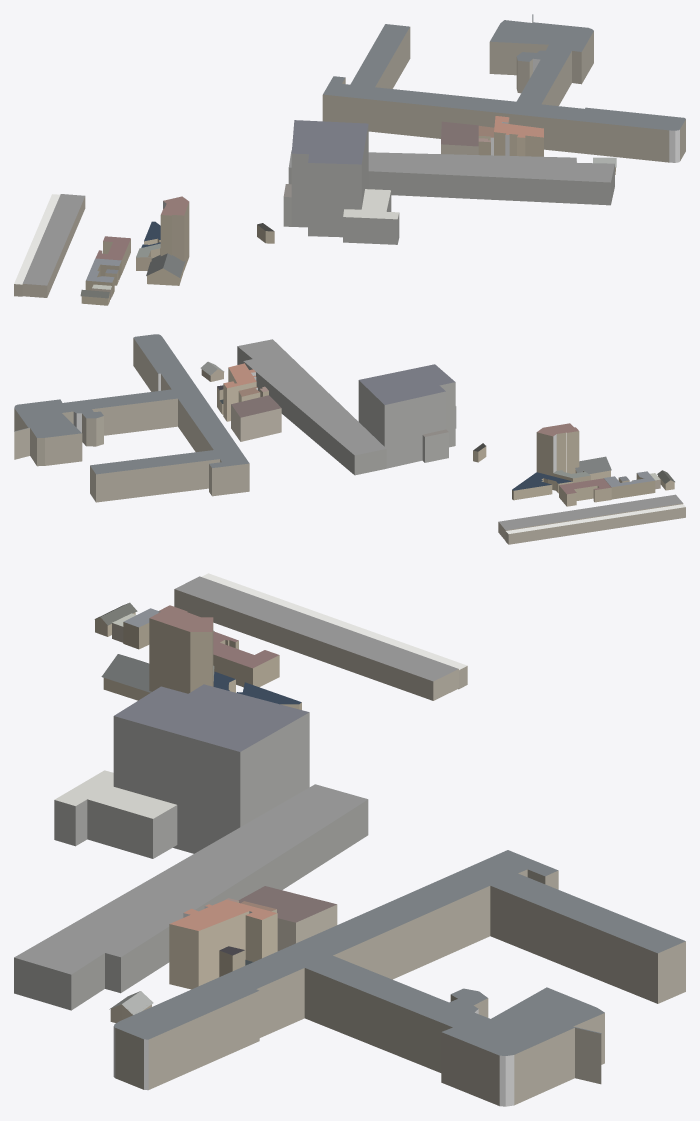
3 views of the same model, one above another, from view 1: azimuth 30°, elevation 25°; view 2: azimuth 150°, elevation 25°; view 3: azimuth 270°, elevation 25° (orthographic). The views are drawn at different scales.
Visible parts, largest first — view 1: tuile; view 2: tuile; view 3: tuile.
Part boxes in pixels (x1=…): tuile: x1=14, y1=14, x2=685, y2=305; tuile: x1=14, y1=334, x2=685, y2=544; tuile: x1=14, y1=573, x2=685, y2=1106.
Size of the model in its own units: 291 by 31.52 by 160.
